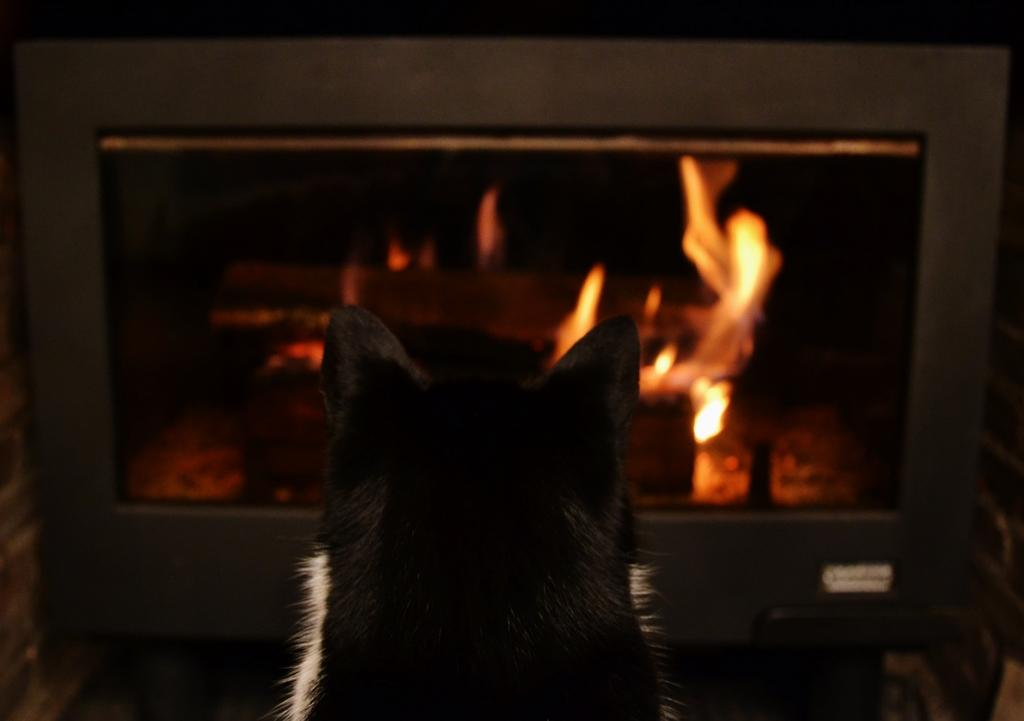Fire: (13, 36, 1017, 720), (531, 133, 925, 450)
